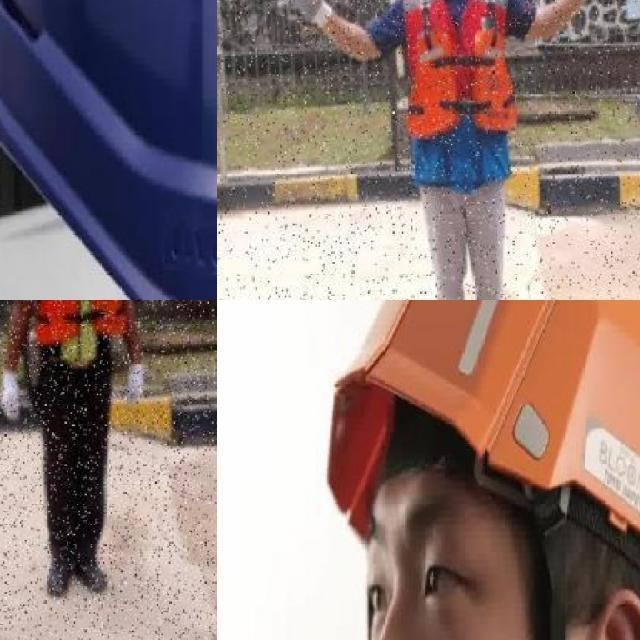apron: (275, 0, 334, 33), (0, 367, 22, 424), (123, 360, 146, 409)
